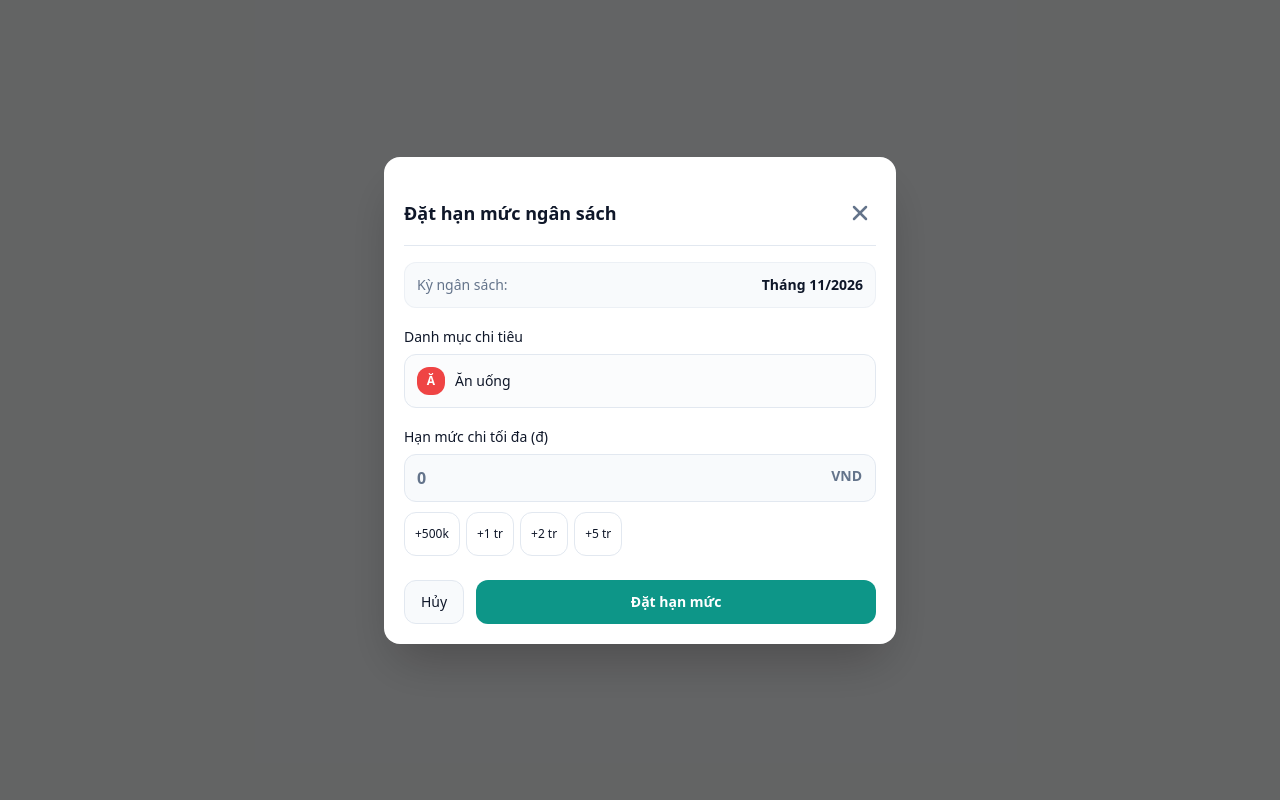
Test: BudgetDialog Component Test › tự động định dạng dấu phân cách nghìn khi nhập số tiền và cộng nhanh qua chip
Type "2500000" into the field labelled "Hạn mức chi tối đa (đ)". click: (640, 478)
box: [404,454,876,502]
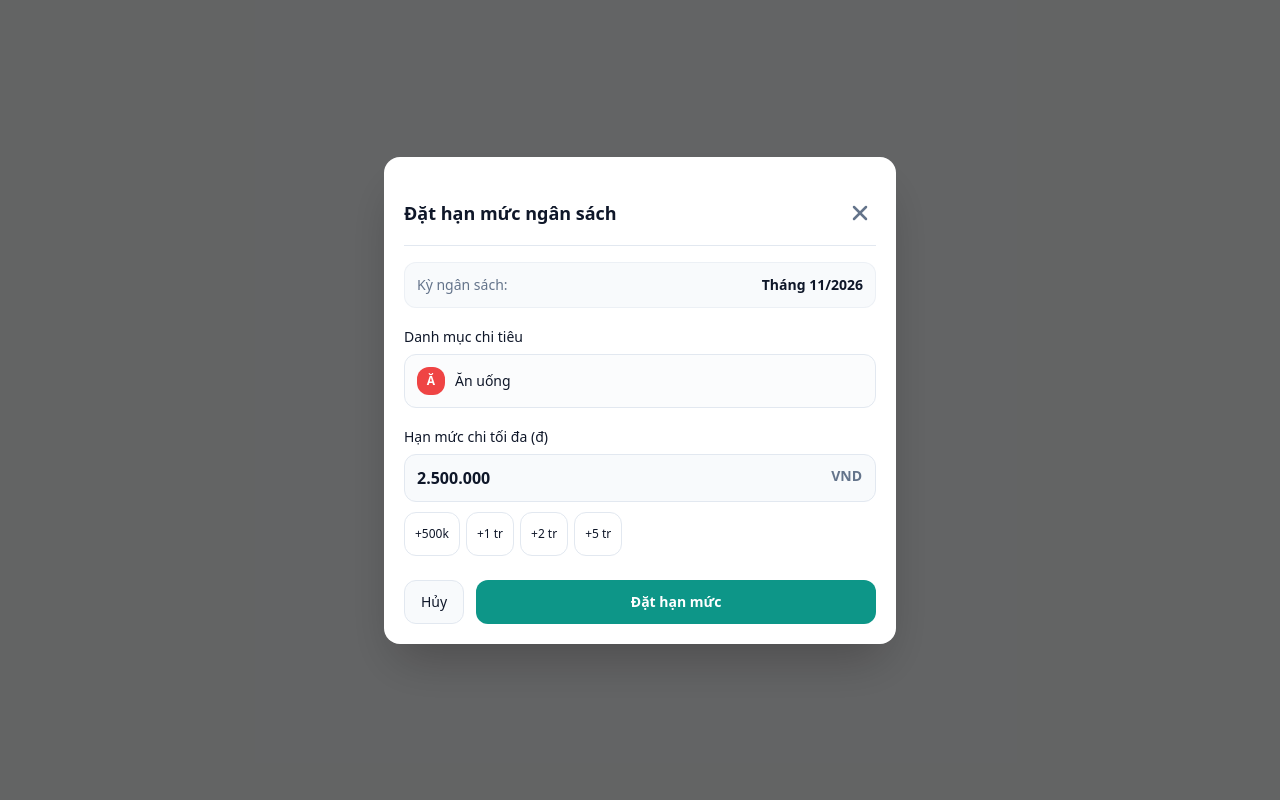
Now the field labelled "Hạn mức chi tối đa (đ)" holds "2.500.000", box [404,454,876,502]
Click the button "+1 tr". click: (490, 534)
box: [466,512,514,556]
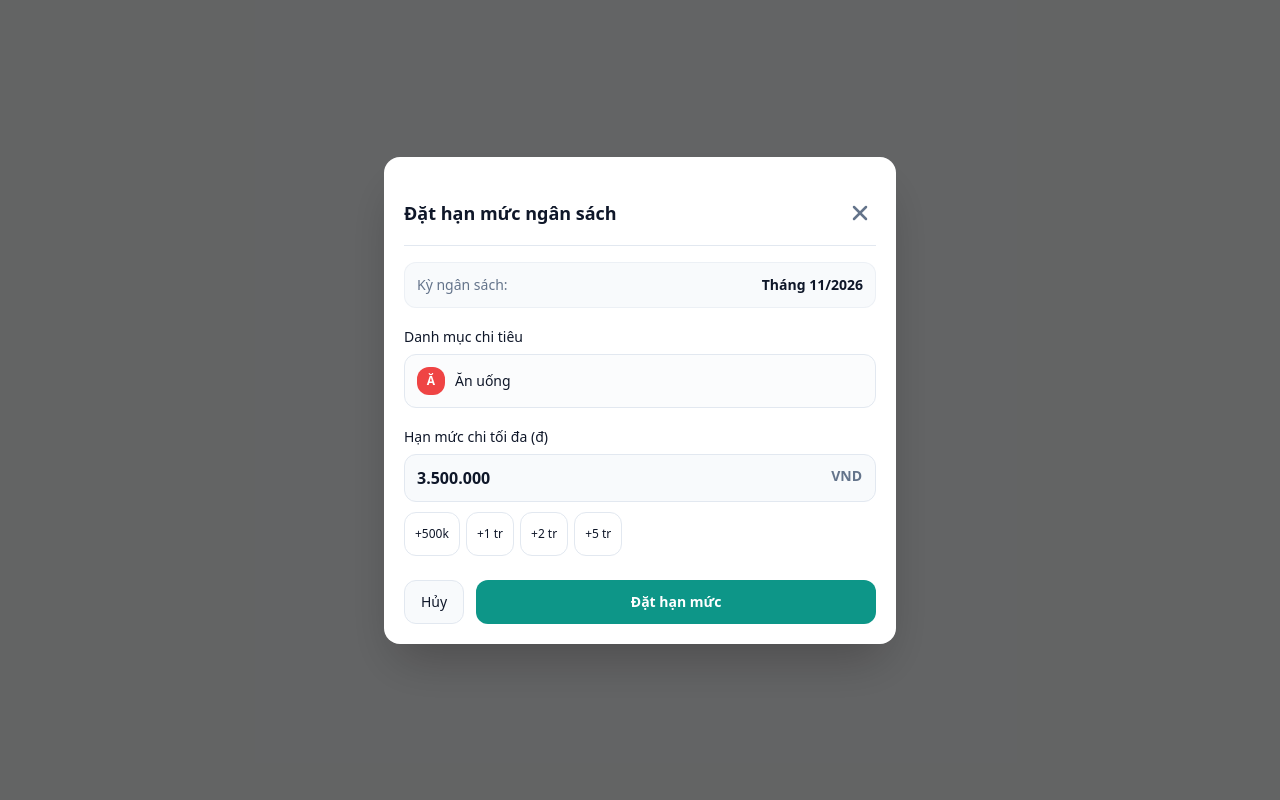
Now the field labelled "Hạn mức chi tối đa (đ)" holds "3.500.000", box [404,454,876,502]
